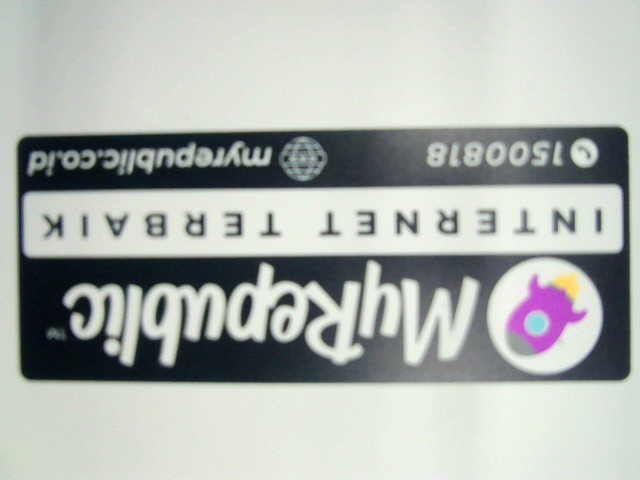BD_MyRepublic: (13, 119, 637, 384)
